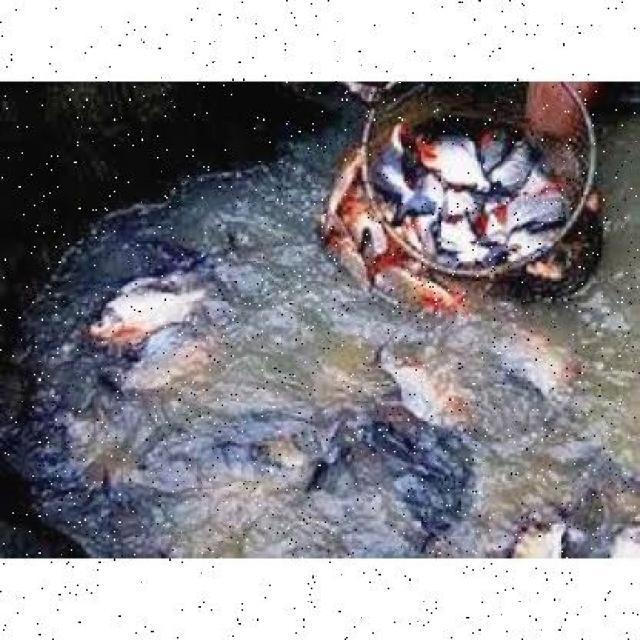ikan-pacu: (376, 343, 470, 426), (86, 281, 206, 334)
